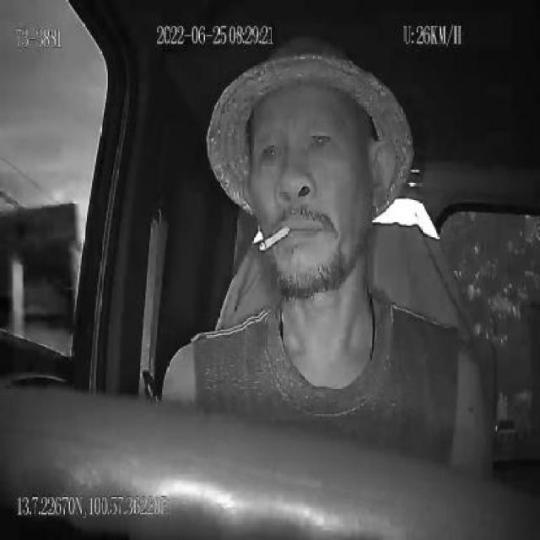smoking: (258, 224, 291, 254)
